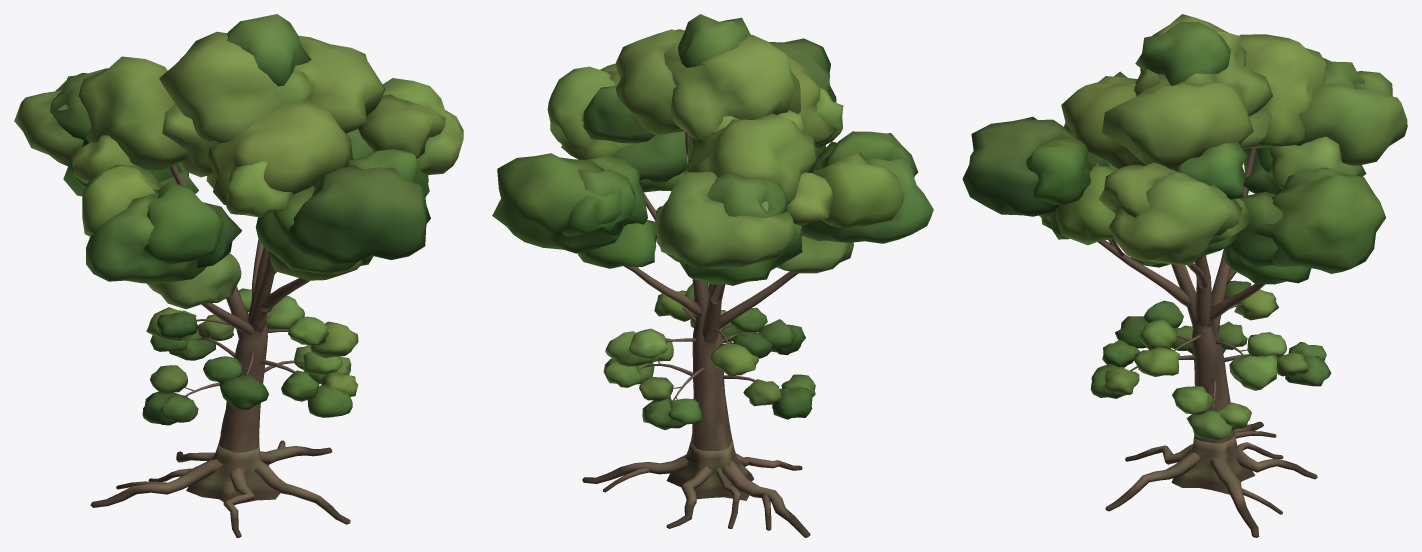
File: skyroot_tree.glb
The picture shows the model from 3 angles, left to right: view 1: azimuth 30°, elevation 25°; view 2: azimuth 150°, elevation 25°; view 3: azimuth 270°, elevation 25°; orthographic projection. The views are drawn at different scales.
Parts seen in each view (by area): view 1: CrownLeaves, BranchL_0_Leaves, BranchL_2_Leaves, BranchL_4_Leaves, Roots, Trunk, BranchL_3_Leaves, BranchS_6_Leaves, Stump, BranchS_4_Leaves, BranchS_5_Leaves, BranchS_7_Leaves (+6 smaller); view 2: CrownLeaves, BranchL_1_Leaves, BranchL_0_Leaves, BranchL_3_Leaves, Trunk, Roots, BranchL_4_Leaves, BranchS_2_Leaves, BranchS_4_Leaves, Stump, BranchS_3_Leaves, BranchS_1_Leaves (+7 smaller); view 3: CrownLeaves, BranchL_1_Leaves, BranchL_2_Leaves, BranchL_4_Leaves, BranchL_3_Leaves, Trunk, Roots, BranchS_0_Leaves, BranchS_1_Leaves, Stump, BranchS_6_Leaves, BranchS_7_Leaves (+6 smaller).
Boxes of the visible parts, x1,y1,x2,y2 form: CrownLeaves: (63, 14, 428, 273); BranchL_0_Leaves: (82, 165, 242, 309); BranchL_2_Leaves: (268, 149, 430, 280); BranchL_4_Leaves: (357, 78, 463, 174); Roots: (90, 440, 350, 537); Trunk: (169, 166, 274, 452); BranchL_3_Leaves: (14, 68, 198, 193); BranchS_6_Leaves: (281, 370, 358, 417); Stump: (186, 445, 280, 503); BranchS_4_Leaves: (142, 365, 198, 425); BranchS_5_Leaves: (203, 356, 268, 409); BranchS_7_Leaves: (288, 316, 358, 357); CrownLeaves: (578, 14, 843, 284); BranchL_1_Leaves: (492, 153, 656, 268); BranchL_0_Leaves: (777, 131, 933, 273); BranchL_3_Leaves: (655, 170, 796, 285); Trunk: (685, 131, 732, 450); Roots: (582, 453, 810, 537); BranchL_4_Leaves: (547, 63, 684, 192); BranchS_2_Leaves: (639, 377, 701, 430); BranchS_4_Leaves: (743, 374, 815, 419); Stump: (666, 440, 753, 500); BranchS_3_Leaves: (710, 332, 772, 376); BranchS_1_Leaves: (605, 328, 667, 366); CrownLeaves: (1039, 14, 1366, 265); BranchL_1_Leaves: (1223, 167, 1385, 284); BranchL_2_Leaves: (962, 117, 1114, 245); BranchL_4_Leaves: (1098, 162, 1251, 267); BranchL_3_Leaves: (1243, 58, 1407, 194); Trunk: (1171, 148, 1256, 443); Roots: (1105, 421, 1317, 537); BranchS_0_Leaves: (1172, 386, 1251, 440); BranchS_1_Leaves: (1229, 332, 1286, 390); Stump: (1171, 435, 1255, 494); BranchS_6_Leaves: (1090, 339, 1139, 398); BranchS_7_Leaves: (1134, 320, 1179, 376).
Bounding box in the file's own units: 6.42 × 7.91 × 6.83.
